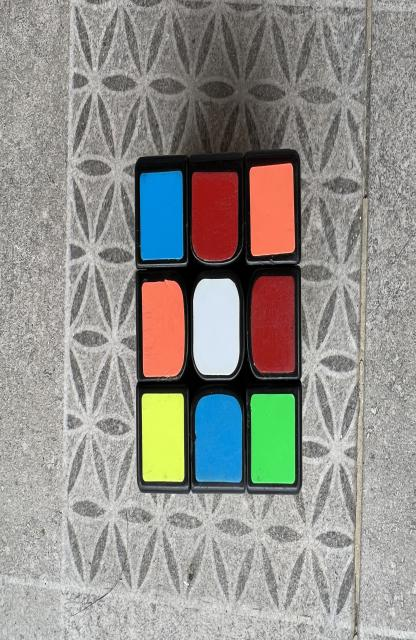Blue: (195, 393, 242, 483), (140, 170, 184, 260)
Green: (250, 393, 295, 483)
Orange: (249, 163, 295, 257), (142, 280, 185, 377)
Red: (251, 277, 295, 373), (192, 172, 238, 262)
White: (193, 278, 240, 375)
Yellow: (141, 393, 184, 482)
